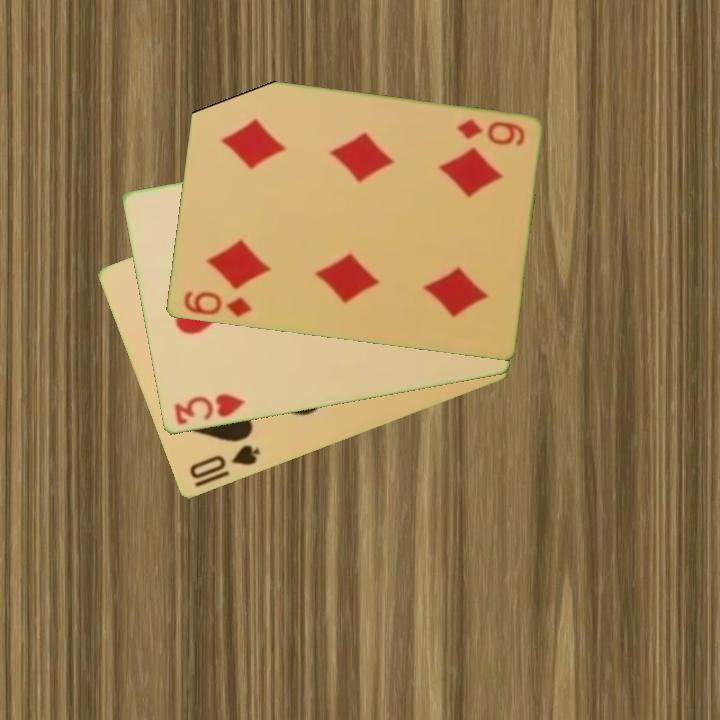10s: (185, 441, 263, 483)
3h: (170, 390, 247, 428)
6d: (453, 116, 527, 150), (179, 288, 255, 321)
